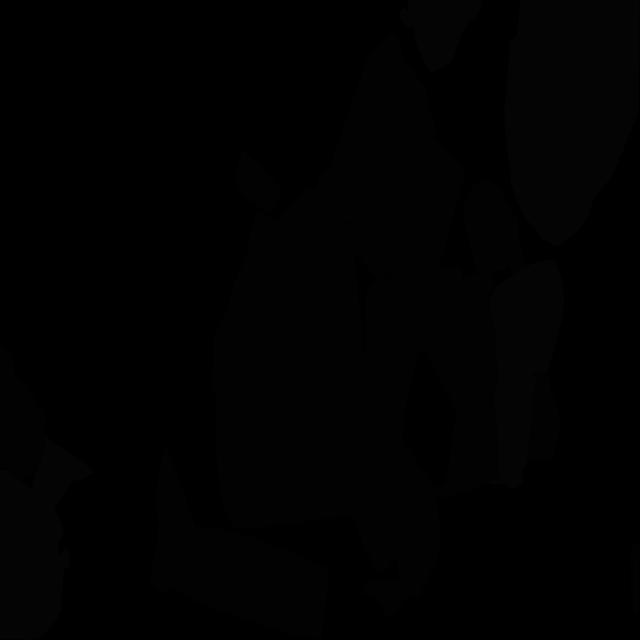cardboard: (212, 187, 364, 528), (150, 447, 330, 640), (365, 266, 498, 498), (316, 32, 435, 280), (353, 354, 440, 617), (406, 131, 466, 276), (0, 344, 46, 487), (464, 177, 527, 277), (234, 149, 284, 215), (527, 372, 561, 461), (630, 543, 640, 617)
soft_plastic: (504, 0, 640, 247), (0, 434, 96, 640), (489, 259, 564, 489), (398, 0, 483, 73)
